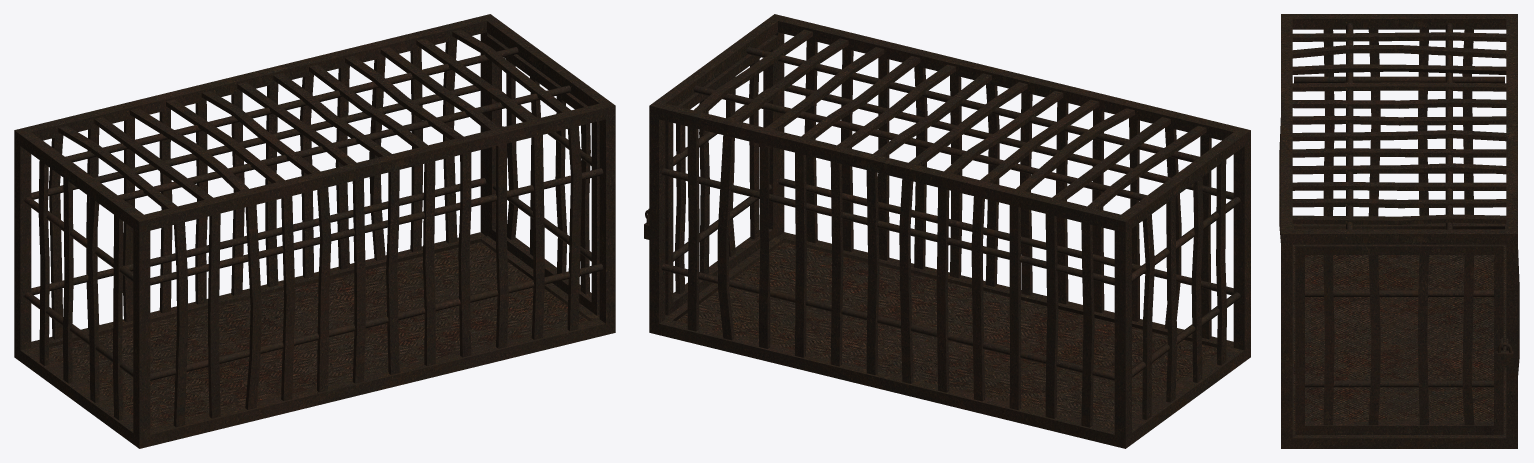
The model's file is cage_mx_1.glb.
3 views of the same model, side by side, from view 1: azimuth 30°, elevation 25°; view 2: azimuth 150°, elevation 25°; view 3: azimuth 270°, elevation 25° (orthographic). The views are drawn at different scales.
Visible parts, largest first — view 1: cage_mx_1, cage_mx_1_door; view 2: cage_mx_1, cage_mx_1_door; view 3: cage_mx_1, cage_mx_1_door, padlock_mx_1.
Part boxes in pixels (x1,y1,x2,y2): cage_mx_1: (14,14,615,448); cage_mx_1_door: (487,35,599,315); cage_mx_1: (645,14,1250,448); cage_mx_1_door: (648,35,777,315); cage_mx_1: (1279,14,1519,448); cage_mx_1_door: (1295,244,1503,434); padlock_mx_1: (1496,343,1513,366).
Size of the model in its own units: 4.48 by 2.01 by 2.03.
2 materials, 2 textured.
